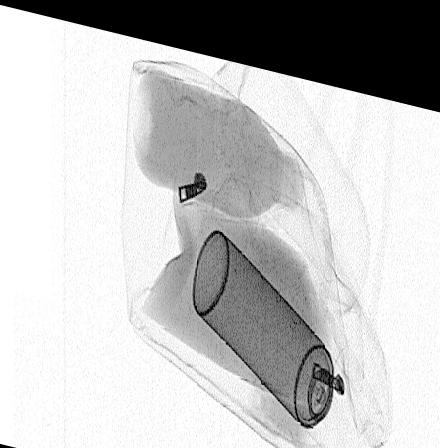Sprayer: (191, 216, 364, 443)
